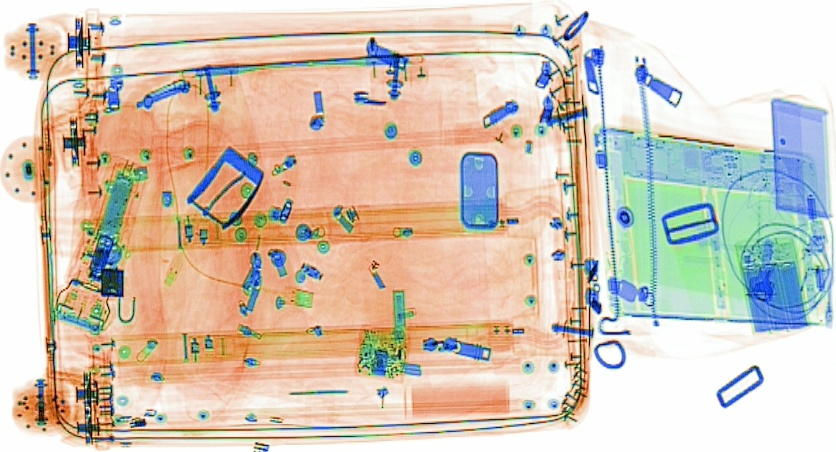powerbank: (731, 231, 811, 334)
